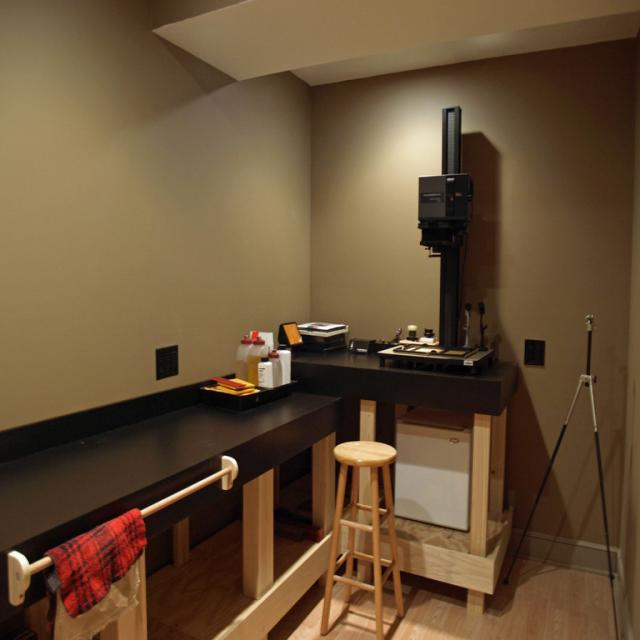chair: (320, 440, 406, 639)
desk: (237, 330, 509, 616)
